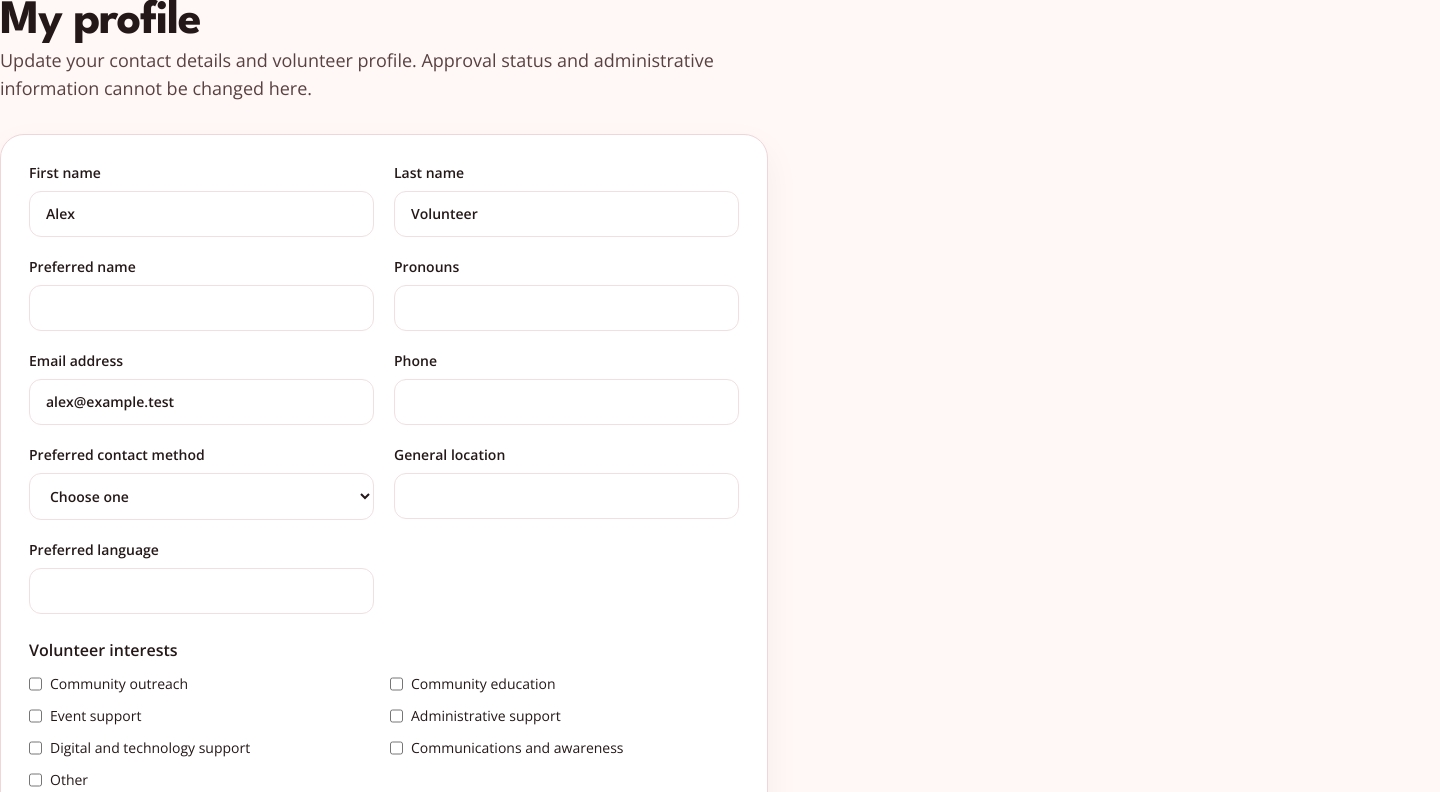
Scenario: volunteer portal pages › saves only editable profile and application fields
Step 1. Replace the text in the field labelled "First name" with "Alexandra" → [202, 214], box x1=29 y1=191 x2=374 y2=237
(page scrolled)
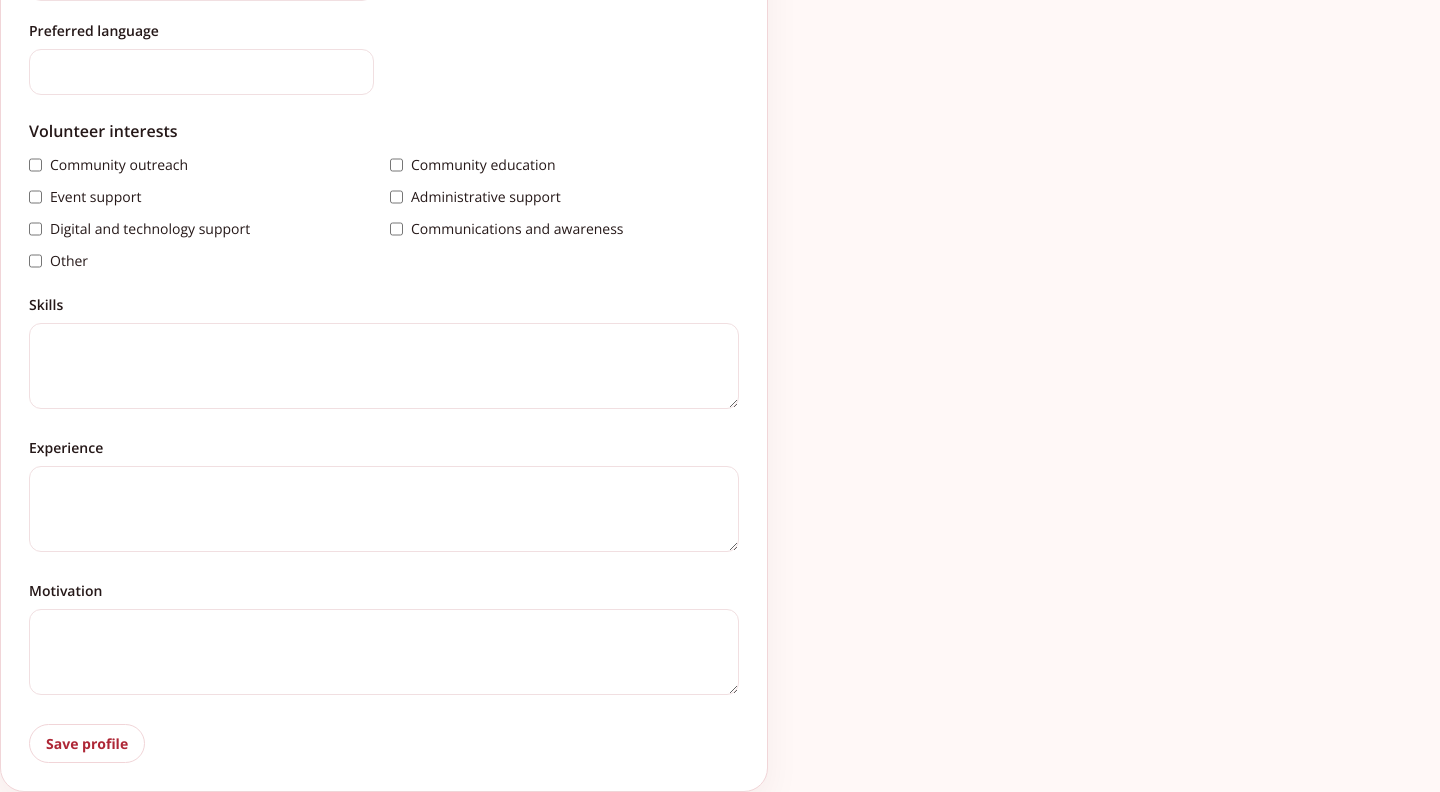
Step 2. Click the button "Save profile" → [87, 744], box x1=29 y1=724 x2=145 y2=763
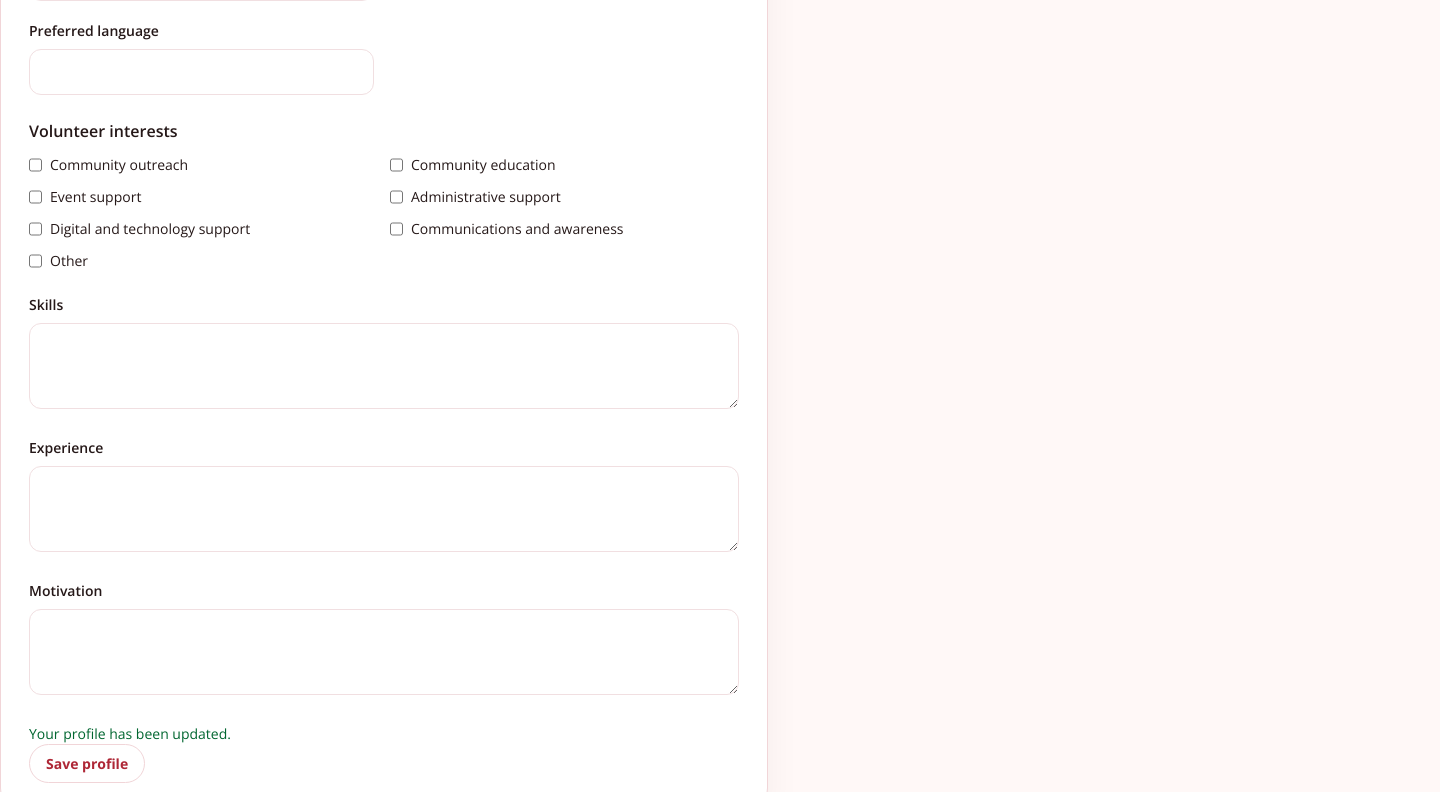
Expected: the message shows "profile has been updated", x1=29 y1=724 x2=231 y2=743
